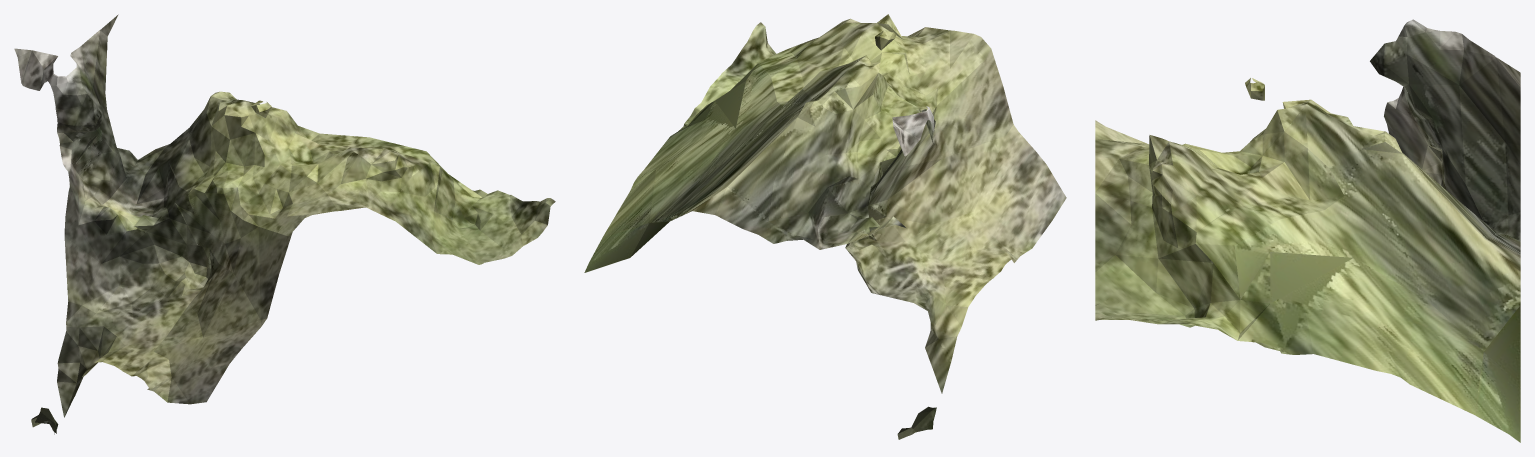
3 views of the same model, side by side, from view 1: azimuth 30°, elevation 25°; view 2: azimuth 150°, elevation 25°; view 3: azimuth 270°, elevation 25° (orthographic). The views are drawn at different scales.
Size of the model in its own units: 5.9 by 5.9 by 5.9.
4 materials, 4 textured.
